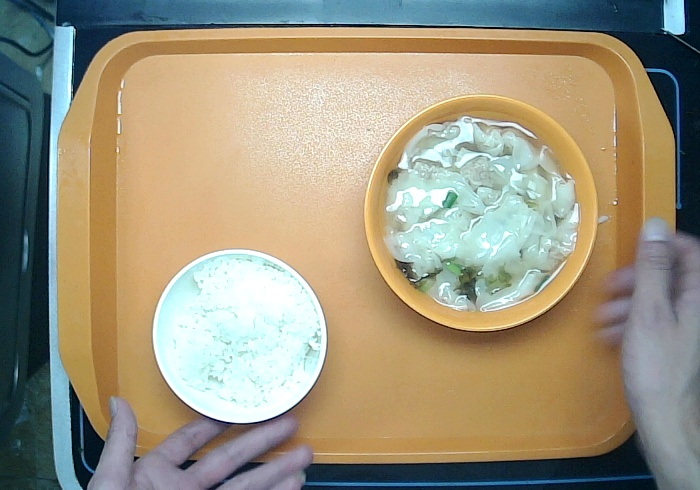NLDX-Fan_Wan: (149, 247, 331, 427)
NLDX-Hun_Tun_Wan: (364, 93, 597, 331)
